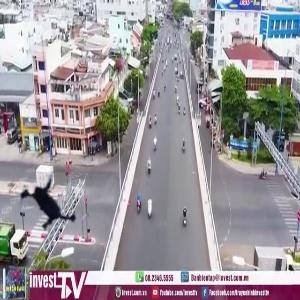drone: (6, 157, 97, 248)
